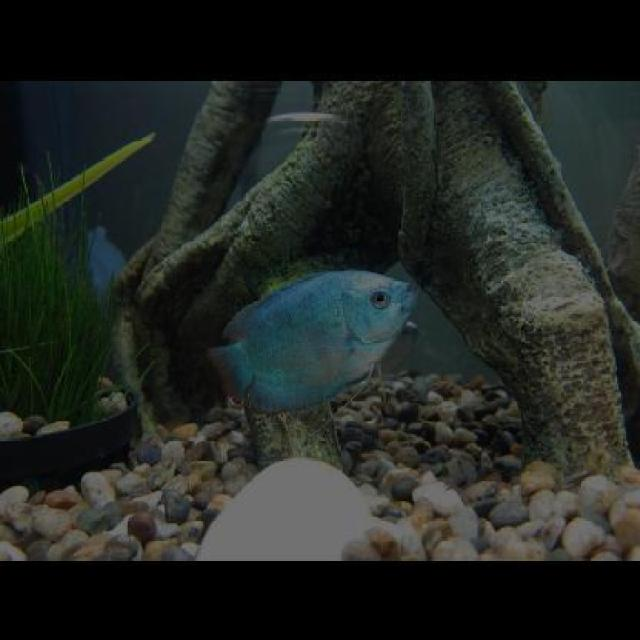Gourami: (210, 269, 416, 408)
